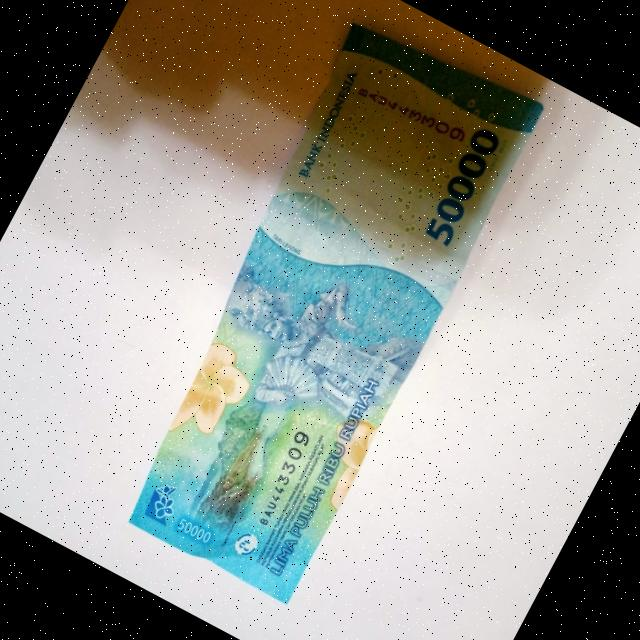50K: (83, 0, 560, 620)
